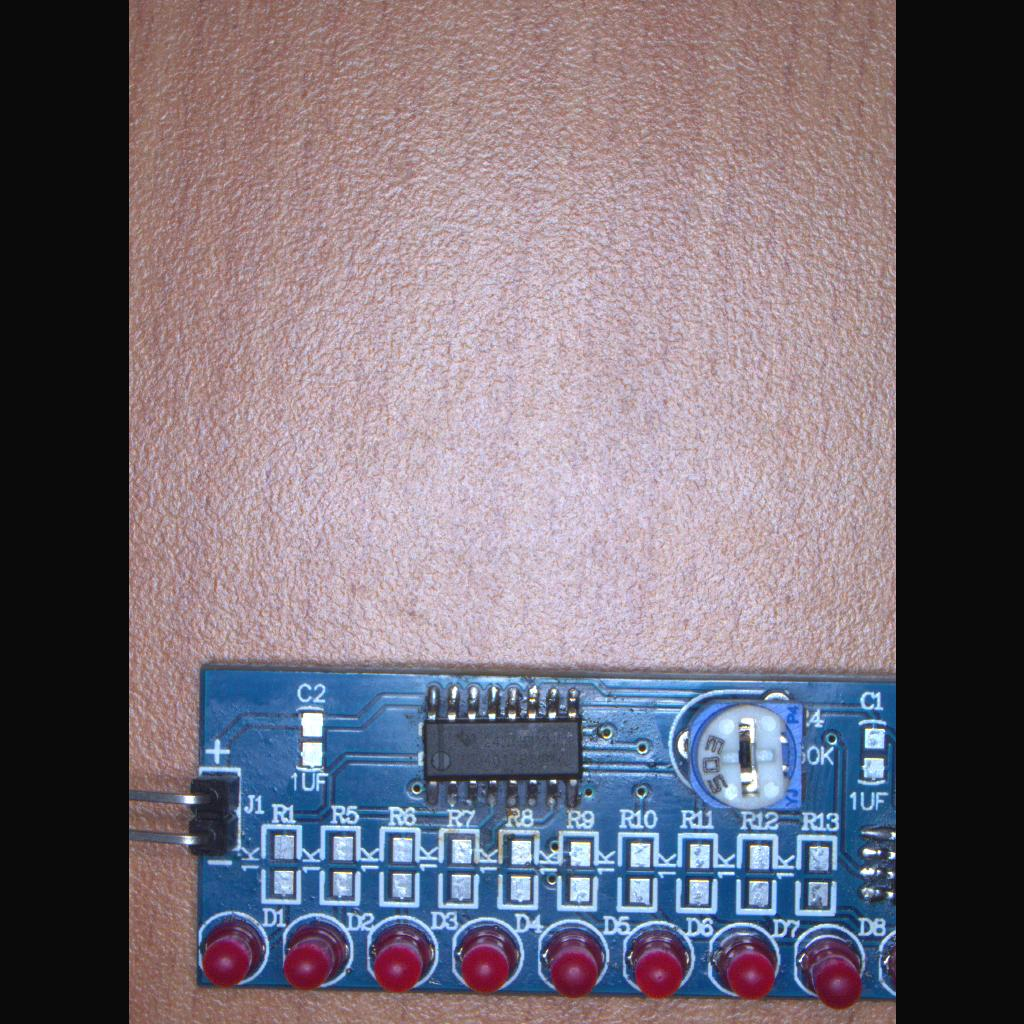NG: (551, 828, 605, 916), (491, 827, 545, 913), (732, 831, 782, 921), (433, 824, 483, 914), (790, 834, 842, 920), (612, 829, 664, 915), (374, 825, 426, 911), (316, 822, 366, 910), (671, 830, 721, 916), (258, 820, 304, 910), (852, 716, 892, 788)
OK: (412, 680, 588, 820)
